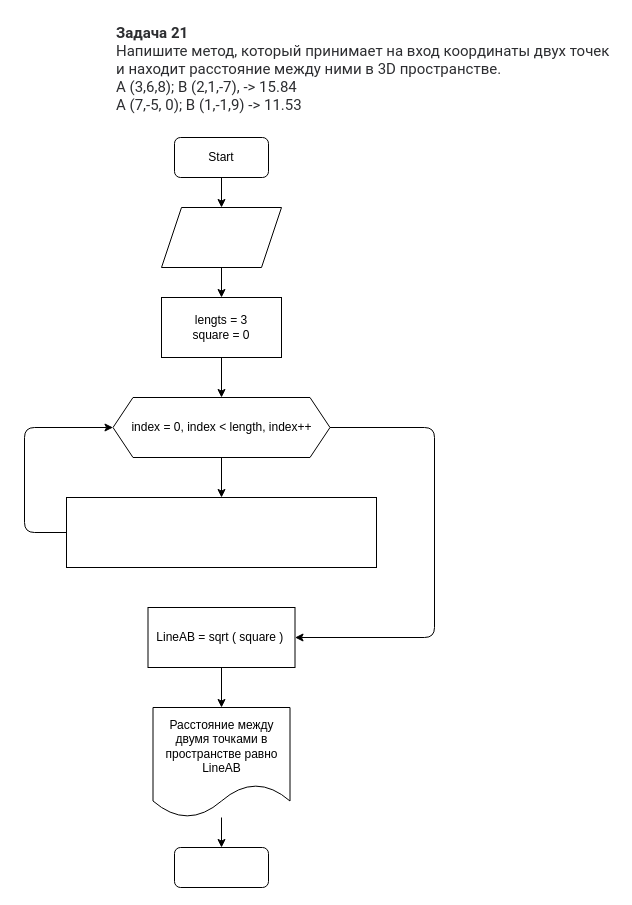
This 632x905 diagram has some shape labels left out. The centre of each missing label's shape, as x and y in pixels:
PointA[ ] PointB[ ]: [221,237]
square = square + (PointA[index] - PointB[index]) ^ 2: [221,532]
Stop: [221,867]
